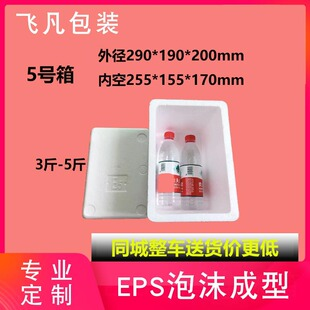Boxes: (83, 100, 238, 221)
